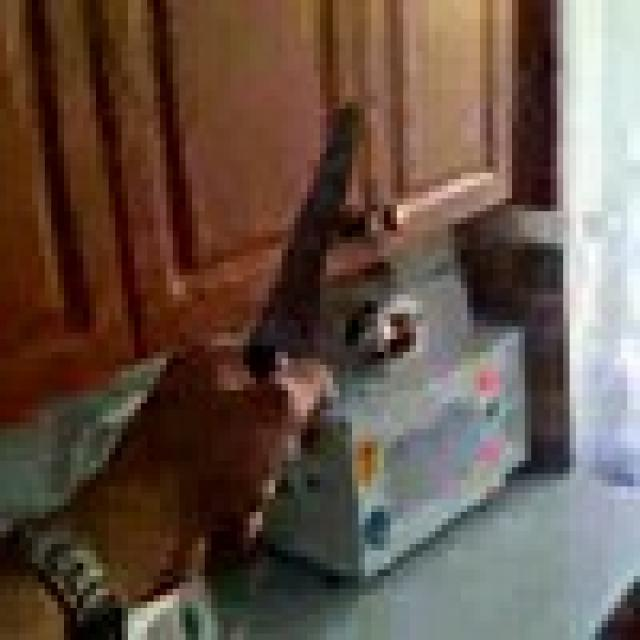Knife: (250, 102, 364, 378)
